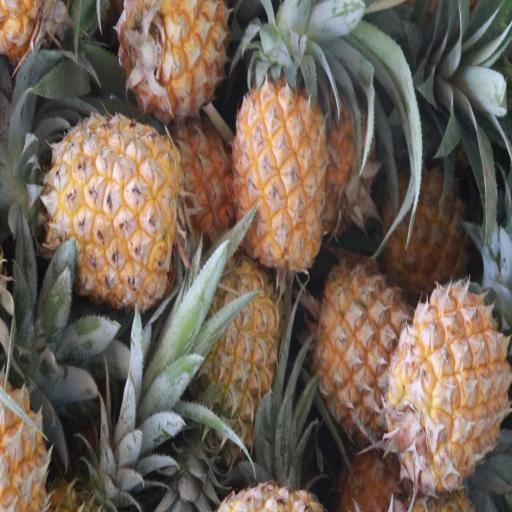------------------------------: (315, 268, 416, 445)
Pineapple - v8 v1: (390, 284, 512, 486), (53, 114, 181, 302), (234, 78, 327, 270), (195, 264, 278, 440), (123, 0, 230, 119), (387, 157, 471, 282)
